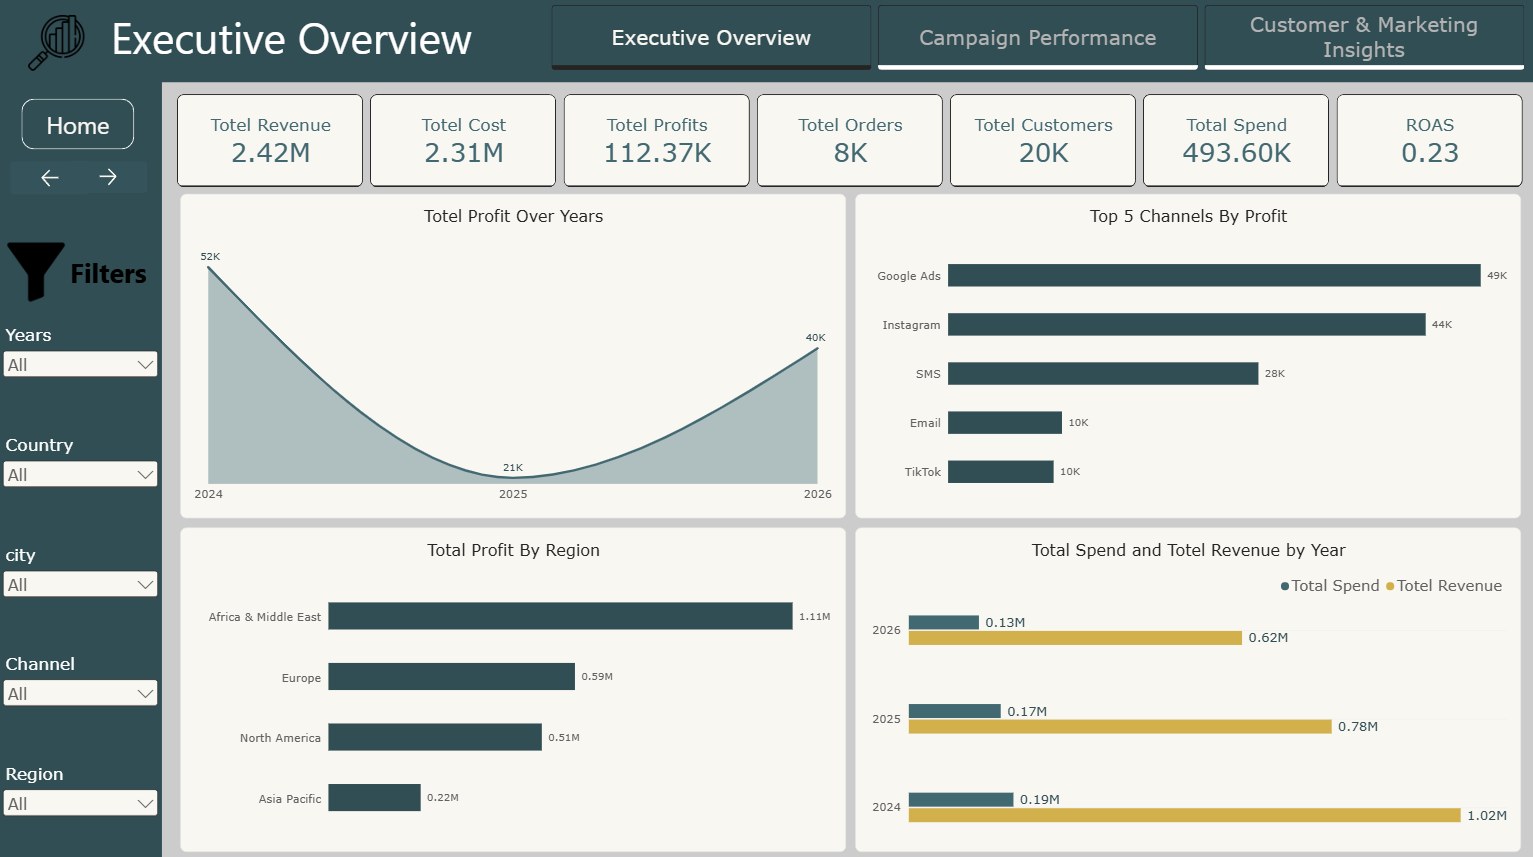

Layout of this report page (visuals, bound fields, positions):
{"tool":"powerbi","page":{"name":"Executive Overview","canvas":[1920,1080],"ordinal":1},"visuals":[{"type":"shape","box":[0,0,1920,109.1],"z":0},{"type":"shape","box":[0,93.7,203.5,985.2],"z":1000},{"type":"shape","box":[89,10.5,551.2,76.7],"z":2000},{"type":"image","box":[22.7,24.4,95.9,69.8],"z":3000},{"type":"image","box":[8.7,307,73.3,76.7],"z":4000},{"type":"shape","box":[79.2,309.8,113.5,70.2],"z":5000},{"type":"cardVisual","fields":{"Data":["Measure.Totel Revenue","Measure.Totel Cost","Measure.Totel Profits","Measure.Totel Orders","Measure.Totel Customers","Measure.Total Spend","Measure.ROAS"]},"box":[221.5,122.5,1685.9,117.1],"z":6000},{"type":"lineChart","title":"Totel Profit Over Years","fields":{"Category":["Date.Year"],"Y":["Measure.Totel Profits"]},"box":[226.7,247.1,830,404.7],"z":7000},{"type":"clusteredBarChart","title":"Top 5 Channels By Profit","fields":{"Category":["Channel.ChannelName"],"Y":["Measure.Totel Profits"]},"box":[1067.4,247.1,830.2,404.7],"z":8000},{"type":"slicer","fields":{"Values":["Date.Year"]},"box":[0,410.7,203.5,82.9],"z":9000},{"type":"slicer","fields":{"Values":["Geography.Region"]},"box":[0,956.4,203.5,84.7],"z":10000},{"type":"slicer","fields":{"Values":["Geography.Country"]},"box":[0,547.5,203.5,82.9],"z":11000},{"type":"slicer","fields":{"Values":["Channel.ChannelName"]},"box":[0,819.5,203.5,84.7],"z":12000},{"type":"slicer","fields":{"Values":["Geography.City"]},"box":[0,684.4,203.5,82.9],"z":13000},{"type":"actionButton","box":[86.5,207.1,99.1,39.6],"z":14000},{"type":"actionButton","box":[14.4,207.1,99.1,41.4],"z":15000},{"type":"shape","box":[28.8,129.7,140.5,63],"z":16000},{"type":"pageNavigator","box":[689,12.2,1214,82],"z":17000},{"type":"clusteredBarChart","title":"Total Profit By Region","fields":{"Category":["Geography.Region"],"Y":["-Measure.Totel Revenue"]},"box":[226.7,664.5,830.2,404.7],"z":18000},{"type":"clusteredBarChart","fields":{"Category":["Date.Year"],"Y":["-Measure.Total Spend","-Measure.Totel Revenue"]},"box":[1067.4,664.5,830.2,404.7],"z":19000}]}

Visuals, with their boxes in screenshot pixels (x1, y1, x2, y2), scaled from the page's 1920x1080 canvas onto the 1533x857 screenshot:
shape: {"x1": 0, "y1": 0, "x2": 1532, "y2": 87}
shape: {"x1": 0, "y1": 74, "x2": 162, "y2": 856}
shape: {"x1": 71, "y1": 8, "x2": 511, "y2": 69}
image: {"x1": 18, "y1": 19, "x2": 95, "y2": 75}
image: {"x1": 7, "y1": 244, "x2": 65, "y2": 304}
shape: {"x1": 63, "y1": 246, "x2": 154, "y2": 302}
cardVisual - Measure.Totel Revenue x Measure.Totel Cost: {"x1": 177, "y1": 97, "x2": 1523, "y2": 190}
"Totel Profit Over Years" lineChart: {"x1": 181, "y1": 196, "x2": 844, "y2": 517}
"Top 5 Channels By Profit" clusteredBarChart: {"x1": 852, "y1": 196, "x2": 1515, "y2": 517}
slicer - Date.Year: {"x1": 0, "y1": 326, "x2": 162, "y2": 392}
slicer - Geography.Region: {"x1": 0, "y1": 759, "x2": 162, "y2": 826}
slicer - Geography.Country: {"x1": 0, "y1": 434, "x2": 162, "y2": 500}
slicer - Channel.ChannelName: {"x1": 0, "y1": 650, "x2": 162, "y2": 717}
slicer - Geography.City: {"x1": 0, "y1": 543, "x2": 162, "y2": 609}
actionButton: {"x1": 69, "y1": 164, "x2": 148, "y2": 196}
actionButton: {"x1": 11, "y1": 164, "x2": 91, "y2": 197}
shape: {"x1": 23, "y1": 103, "x2": 135, "y2": 153}
pageNavigator: {"x1": 550, "y1": 10, "x2": 1519, "y2": 75}
"Total Profit By Region" clusteredBarChart: {"x1": 181, "y1": 527, "x2": 844, "y2": 848}
clusteredBarChart - Date.Year x -Measure.Total Spend: {"x1": 852, "y1": 527, "x2": 1515, "y2": 848}
